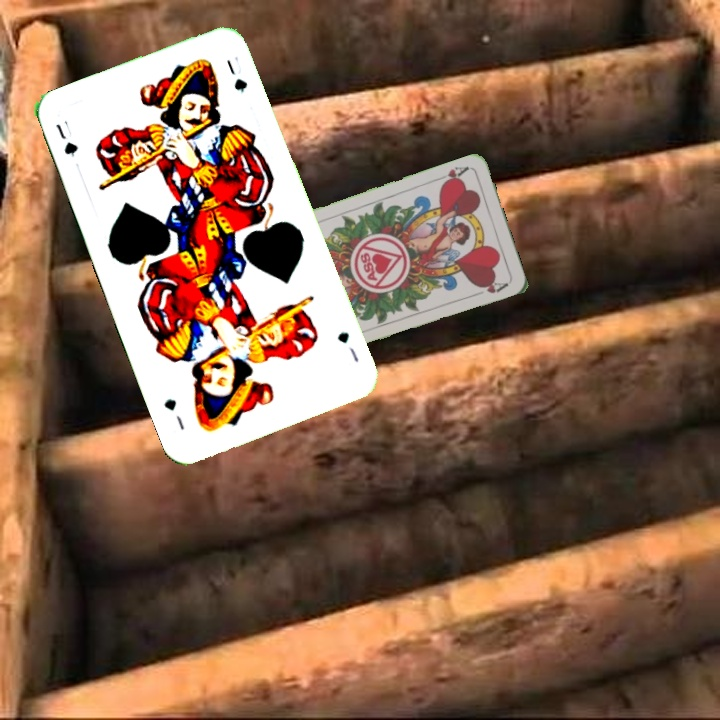GU: (51, 116, 81, 158), (333, 328, 362, 365)
HA: (433, 162, 472, 188)
